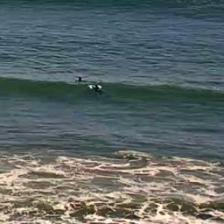surfer: (90, 85, 102, 93), (75, 77, 87, 83)
